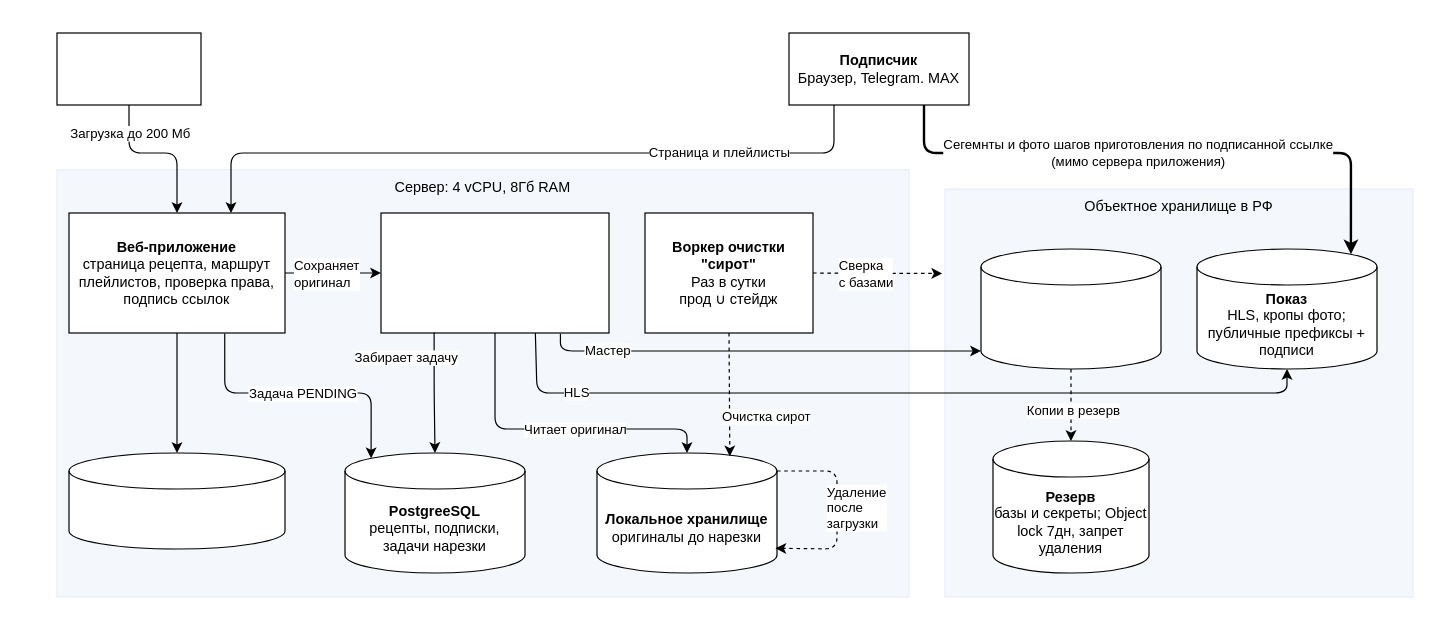
This 1445x641 diagram has some shape labels left out. The box of each missing label's shape, as (x1, y1, x2, y2) in pixels:
Redis кэш плейлистов; лимиты: (68, 452, 285, 549)
Автор клуба админ панель: (56, 32, 201, 105)
Воркер нарезки ffmpeg > HLS, по одной задаче; диск - только транзит: (380, 212, 609, 333)
Оригиналы приватно, версии 14 дн: (980, 248, 1161, 369)
